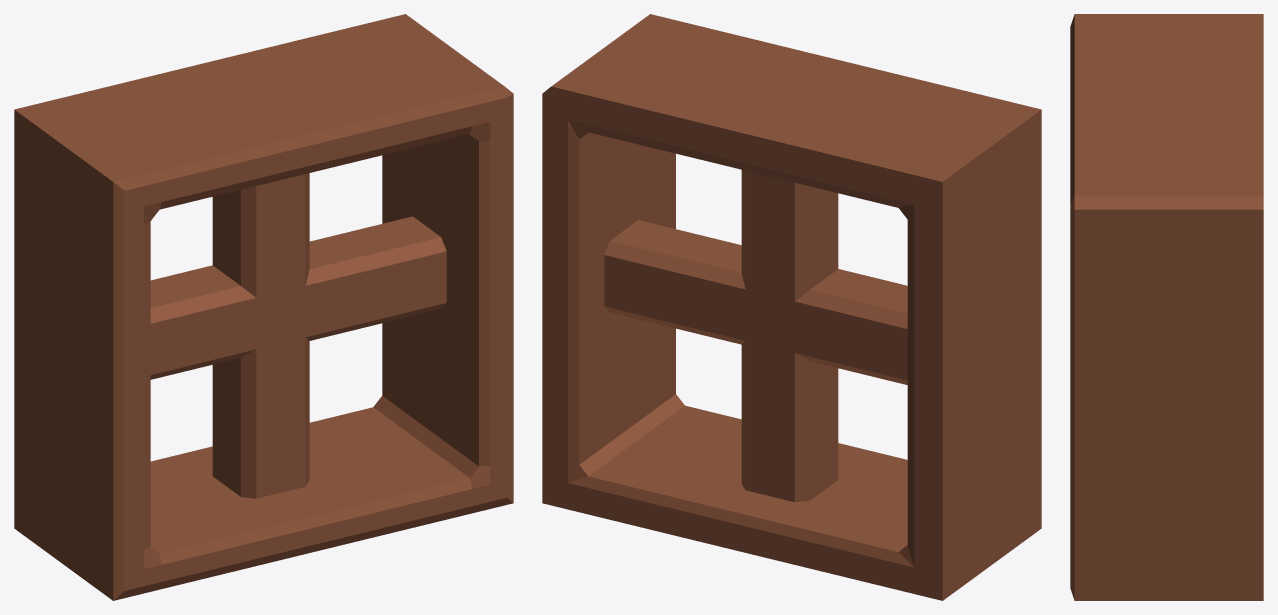
File: window.obj
3 renders of one model, left to right at view 1: azimuth 30°, elevation 25°; view 2: azimuth 150°, elevation 25°; view 3: azimuth 270°, elevation 25°, orthographic. The views are drawn at different scales.
Visible parts, largest first — view 1: Cube.005_Cube.049, Cube.002_Cube.048; view 2: Cube.005_Cube.049, Cube.002_Cube.048; view 3: Cube.005_Cube.049.
Part boxes in pixels (left/top/right/bottom): Cube.005_Cube.049: left=14, top=14, right=513, bottom=600; Cube.002_Cube.048: left=150, top=173, right=446, bottom=498; Cube.005_Cube.049: left=542, top=14, right=1041, bottom=600; Cube.002_Cube.048: left=604, top=170, right=907, bottom=502; Cube.005_Cube.049: left=1070, top=14, right=1263, bottom=600.
Bounding box in the file's own units: 0.9205 × 0.9205 × 0.4033.
